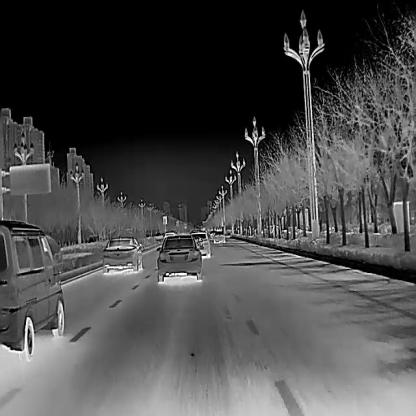car: (0, 218, 65, 362), (155, 233, 204, 281), (101, 236, 143, 273), (188, 228, 212, 258), (212, 232, 226, 244), (209, 229, 217, 239)
